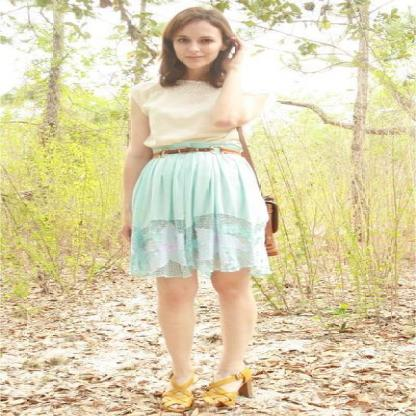bag: (237, 141, 278, 240)
shirt: (113, 75, 242, 154)
shoe: (166, 367, 270, 411)
skirt: (128, 148, 273, 286)
